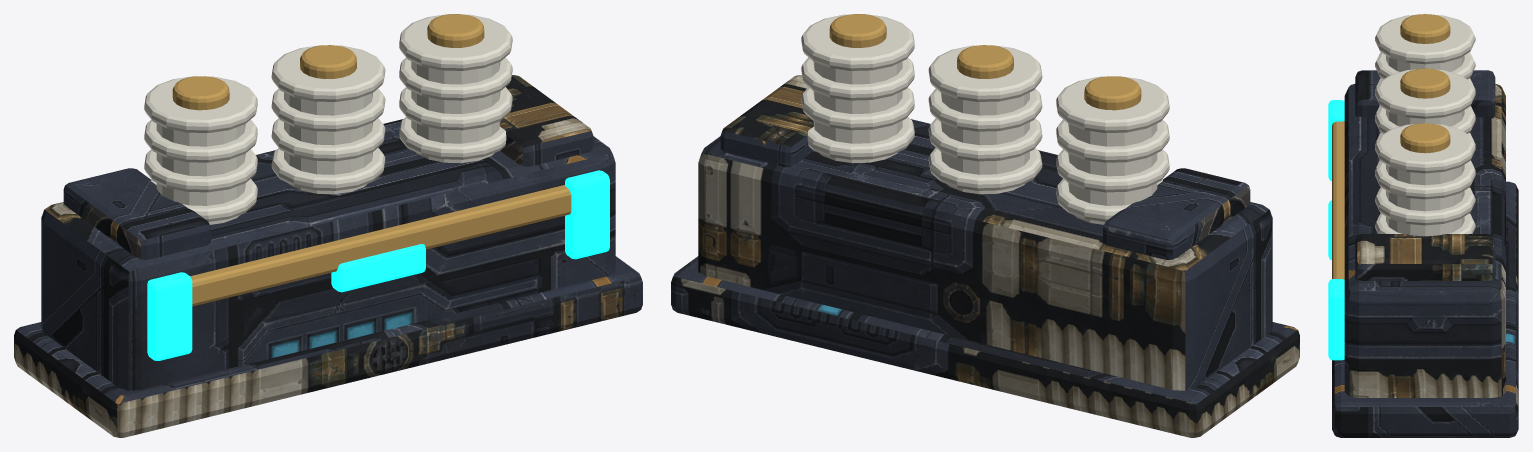
File: RelayBankModel.fbx
3 renders of one model, left to right at view 1: azimuth 30°, elevation 25°; view 2: azimuth 150°, elevation 25°; view 3: azimuth 270°, elevation 25°, orthographic. The views are drawn at different scales.
Parts seen in each view (by area): view 1: Relay Bank Armor, Relay Bank Insulators, Relay Bank Coils, Relay Bank Signals; view 2: Relay Bank Armor, Relay Bank Insulators, Relay Bank Coils; view 3: Relay Bank Armor, Relay Bank Insulators, Relay Bank Coils, Relay Bank Signals.
Boxes of the visible parts, x1,y1,x2,y2 form: Relay Bank Armor: (14,75,642,437); Relay Bank Insulators: (144,14,512,224); Relay Bank Coils: (172,14,571,306); Relay Bank Signals: (147,170,609,360); Relay Bank Armor: (671,75,1299,437); Relay Bank Insulators: (801,14,1169,224); Relay Bank Coils: (829,14,1141,110); Relay Bank Armor: (1332,70,1518,437); Relay Bank Insulators: (1375,14,1475,236); Relay Bank Coils: (1332,14,1450,279); Relay Bank Signals: (1328,100,1344,360).
Size of the model in its own units: 3 by 1.54 by 1.06.
4 materials, 1 textured.
